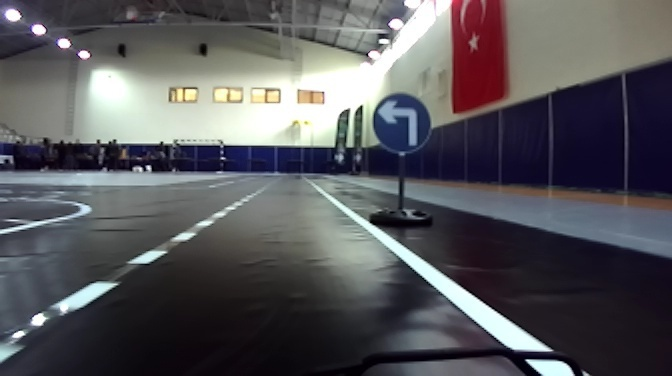sola_donus: (370, 94, 435, 151)
